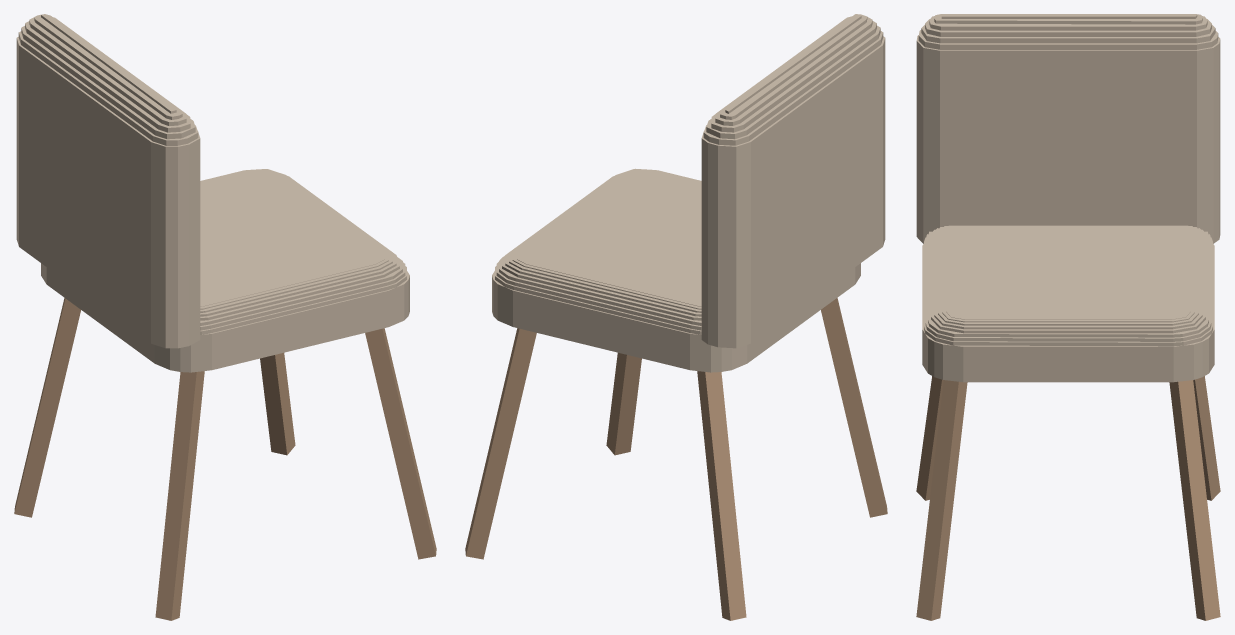
Rendered from SM_DeskChair.fbx.
The picture shows the model from 3 angles, left to right: view 1: azimuth 30°, elevation 25°; view 2: azimuth 150°, elevation 25°; view 3: azimuth 270°, elevation 25°; orthographic projection. The views are drawn at different scales.
Parts seen in each view (by area): view 1: SM_DeskChair; view 2: SM_DeskChair; view 3: SM_DeskChair.
Part boxes in pixels (x1,y1,x2,y2): SM_DeskChair: (14,14,436,620); SM_DeskChair: (465,14,887,620); SM_DeskChair: (916,14,1220,620).
Bounding box in the file's own units: 54.08 × 91.95 × 52.1.
